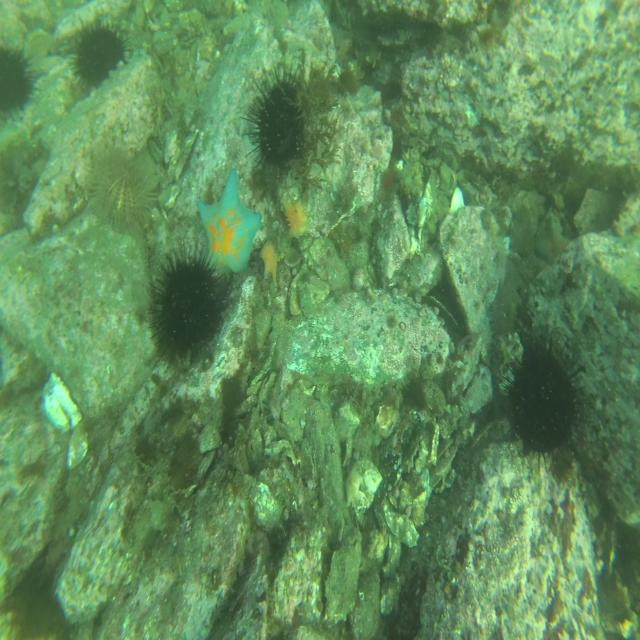echinus: (504, 321, 582, 469), (148, 244, 227, 374), (244, 65, 310, 178), (87, 145, 160, 238), (72, 26, 128, 91), (0, 44, 38, 122)
starfish: (191, 167, 261, 278), (280, 198, 310, 239), (258, 237, 284, 281)
